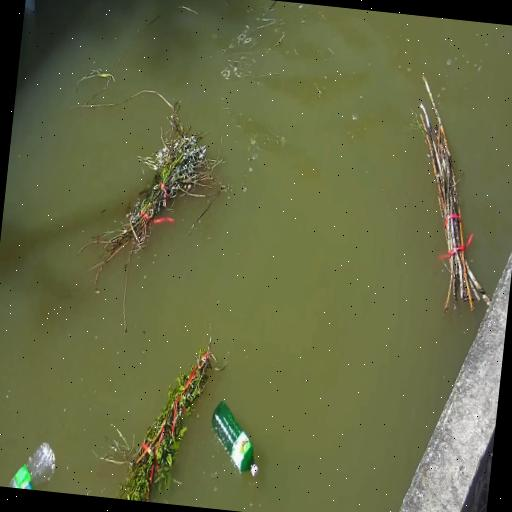plastic: (206, 396, 264, 489), (8, 444, 60, 492)
twig: (395, 84, 507, 314), (102, 114, 214, 300), (116, 342, 213, 508)
